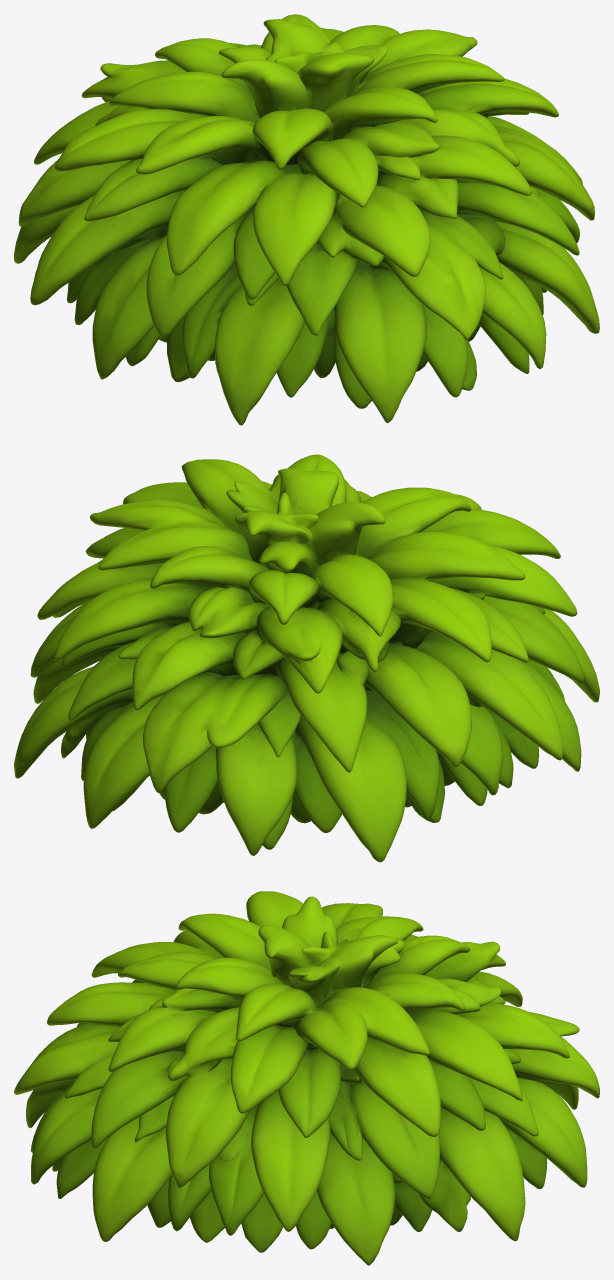
File: hedge_leafy.glb
3 views of the same model, one above another, from view 1: azimuth 30°, elevation 25°; view 2: azimuth 150°, elevation 25°; view 3: azimuth 270°, elevation 25° (orthographic). The views are drawn at different scales.
Visible parts, largest first — view 1: tripo_node_52e8f565-1495-419e-a96a-af83c04e25aa; view 2: tripo_node_52e8f565-1495-419e-a96a-af83c04e25aa; view 3: tripo_node_52e8f565-1495-419e-a96a-af83c04e25aa.
Part boxes in pixels (x1=…): tripo_node_52e8f565-1495-419e-a96a-af83c04e25aa: x1=14, y1=14, x2=599, y2=425; tripo_node_52e8f565-1495-419e-a96a-af83c04e25aa: x1=14, y1=454, x2=599, y2=862; tripo_node_52e8f565-1495-419e-a96a-af83c04e25aa: x1=14, y1=891, x2=599, y2=1265.
Bounding box in the file's own units: 1.21 × 0.5505 × 1.25.
1 material, 1 textured.
